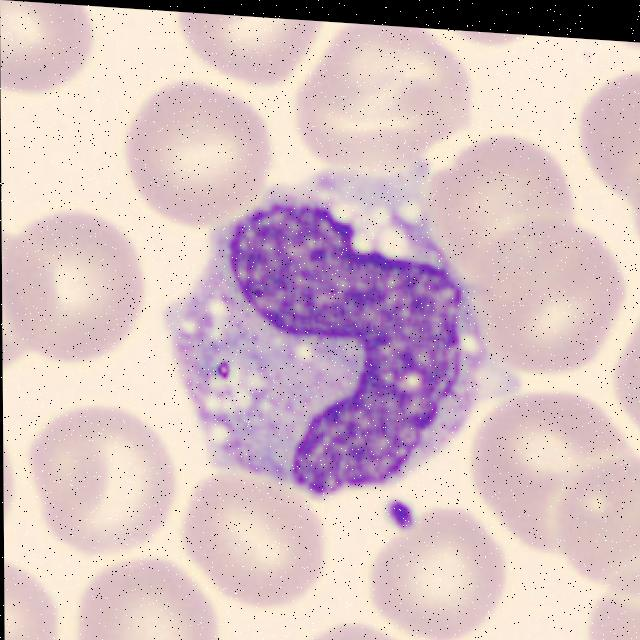monocyte: (175, 111, 508, 523)
rbc: (296, 20, 466, 182), (482, 202, 629, 386), (26, 404, 175, 566), (481, 391, 619, 558), (179, 462, 336, 606), (441, 133, 571, 303), (358, 497, 510, 640), (14, 205, 147, 362), (136, 89, 273, 238), (66, 551, 231, 640), (553, 440, 640, 597), (168, 11, 322, 96), (0, 1, 103, 122), (2, 231, 69, 379), (582, 73, 640, 206), (576, 560, 640, 640), (4, 558, 61, 640), (609, 300, 640, 445), (293, 621, 449, 640), (628, 167, 640, 257)
